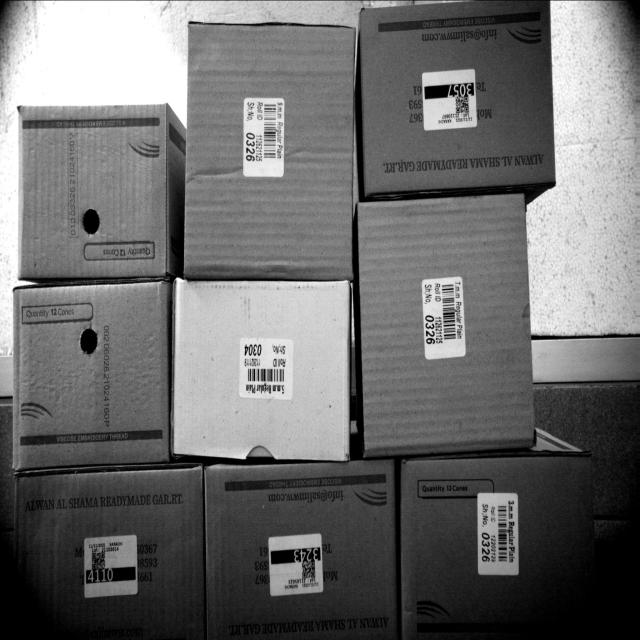cardboxes: (358, 195, 536, 454), (187, 20, 354, 277), (358, 0, 557, 193), (402, 454, 596, 639), (206, 460, 396, 639), (15, 461, 204, 639), (174, 282, 354, 460), (12, 283, 170, 472), (16, 100, 172, 275)
